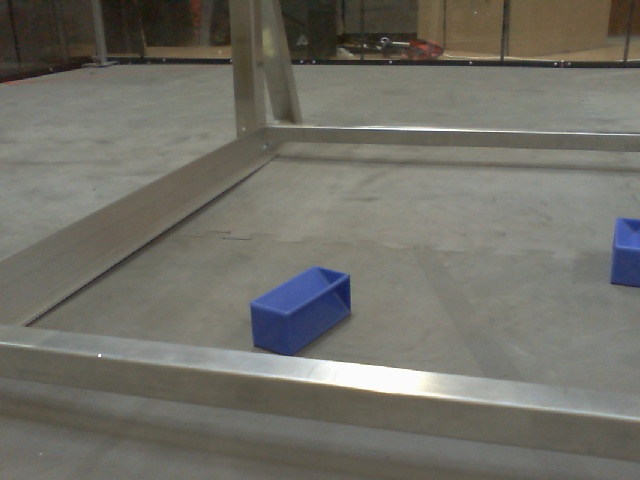BlueSample: (247, 263, 354, 359), (609, 215, 640, 290)
